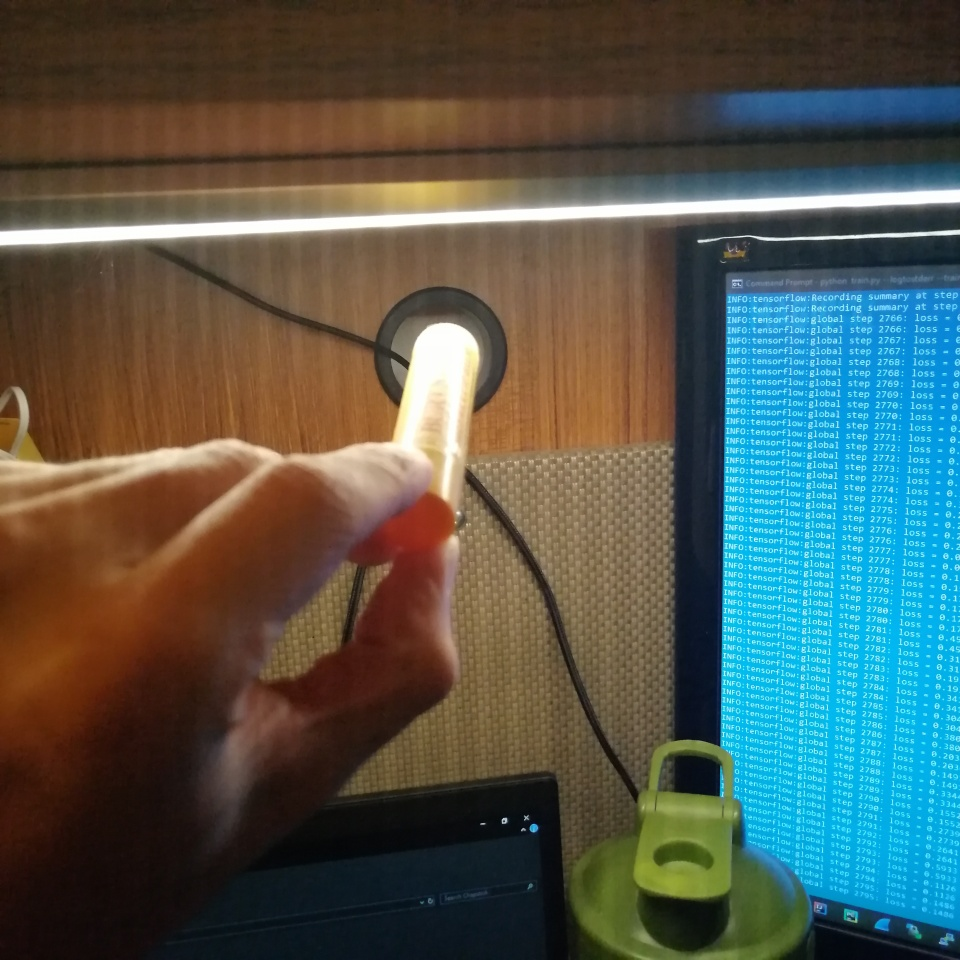chapstick: (384, 321, 481, 555)
